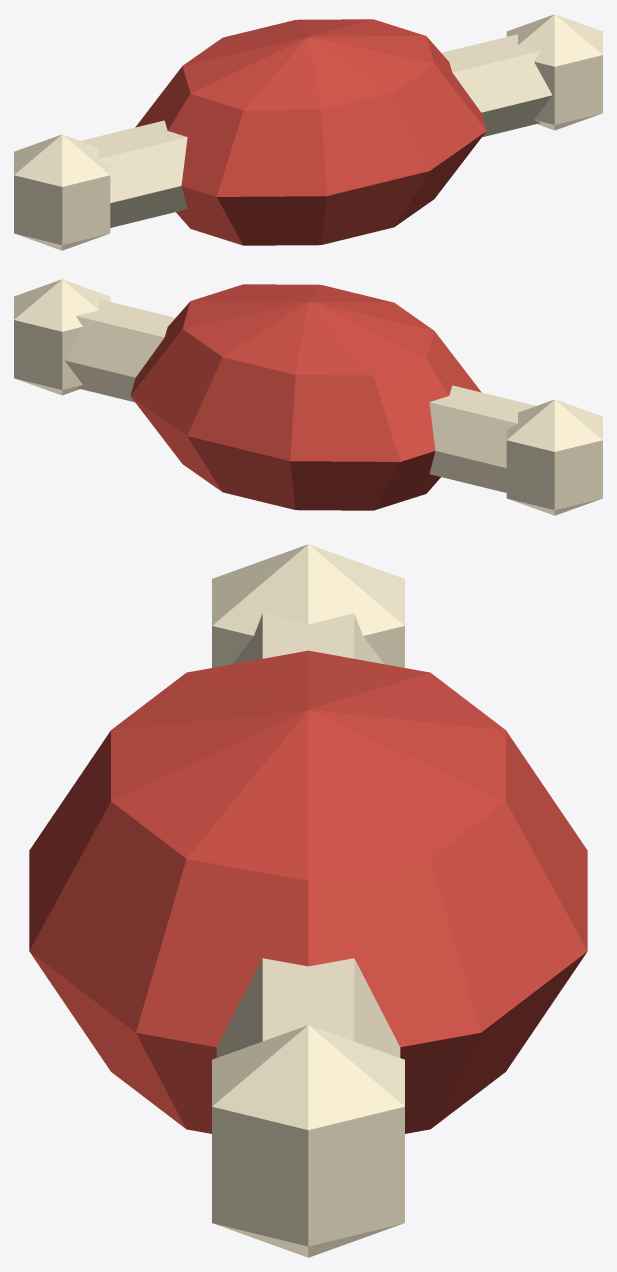
The model's file is hunter_bait.glb.
3 views of the same model, one above another, from view 1: azimuth 30°, elevation 25°; view 2: azimuth 150°, elevation 25°; view 3: azimuth 270°, elevation 25° (orthographic). The views are drawn at different scales.
Visible parts, largest first — view 1: HunterBait_Geometry; view 2: HunterBait_Geometry; view 3: HunterBait_Geometry.
Boxes of the visible parts, <box> form: HunterBait_Geometry: <box>14,14,602,250</box>; HunterBait_Geometry: <box>14,279,602,515</box>; HunterBait_Geometry: <box>29,544,587,1257</box>.
Bounding box in the file's own units: 1.48 × 0.46 × 0.6087.
